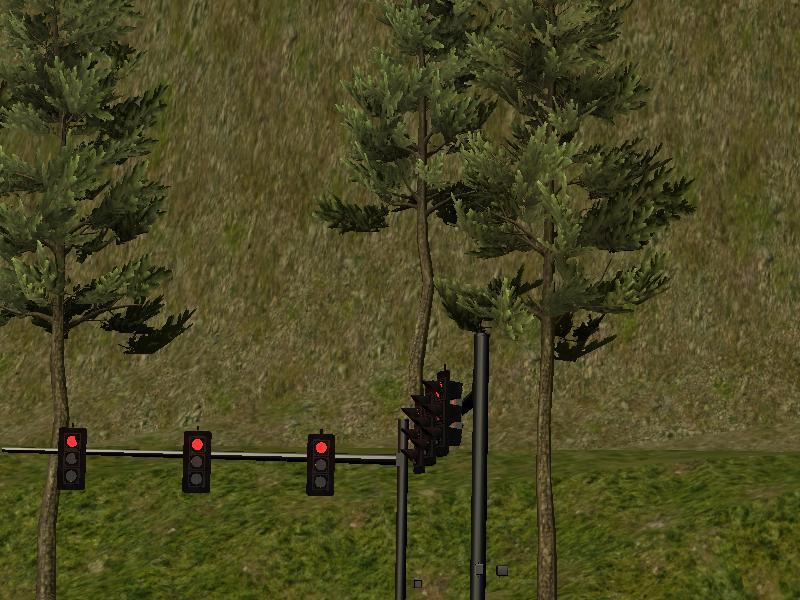Red: (308, 435, 336, 492), (183, 435, 212, 490), (59, 429, 84, 489)
